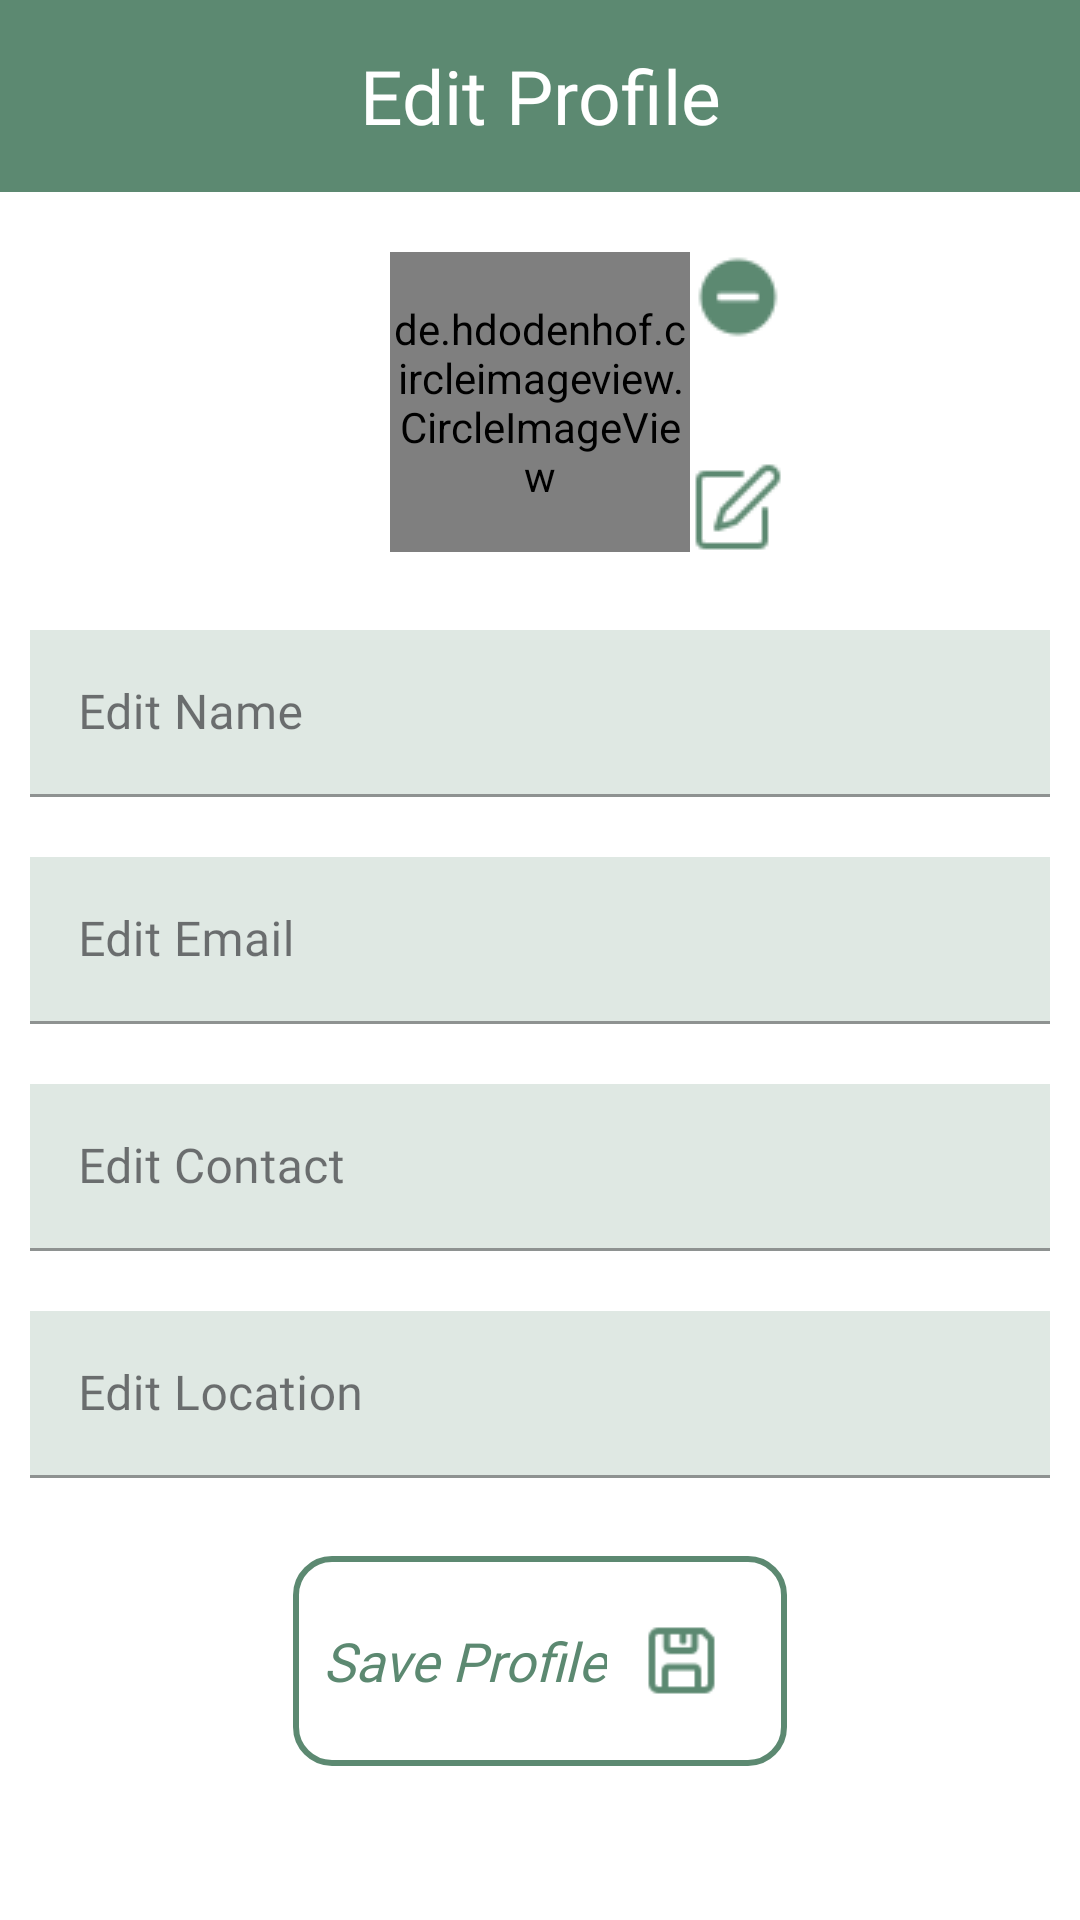

Where to tap for icons on this 1080*1920 app screen, as (x=x, y=y):
Edit Profile Photo: (x=738, y=507)
remove profile photo button: (x=738, y=297)
